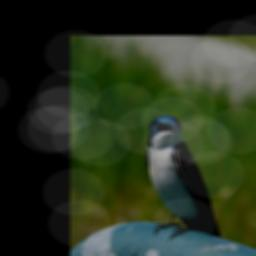Swallow: (143, 113, 221, 242)
